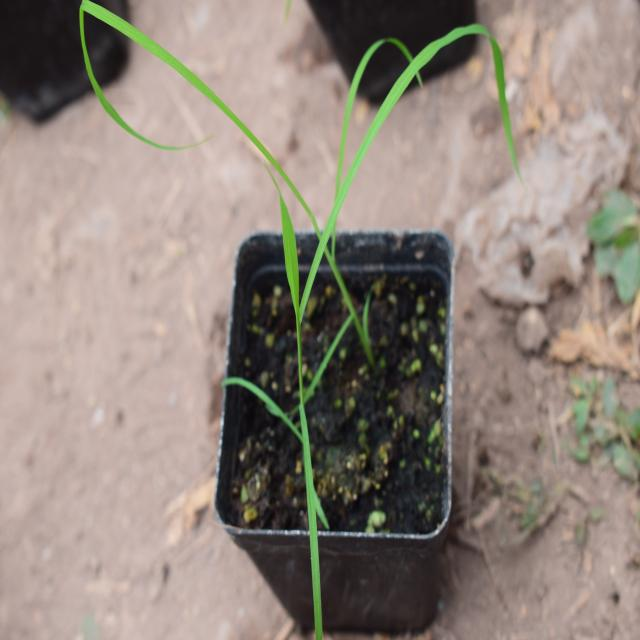barnyard_grass: (179, 7, 418, 590)
